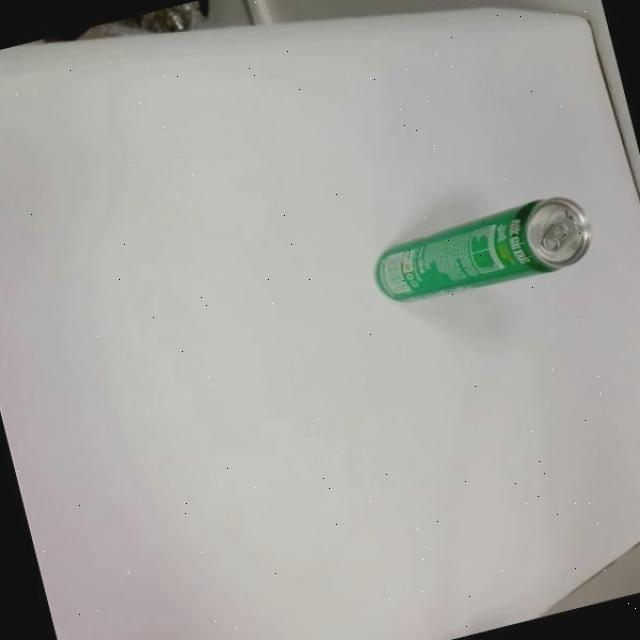debris: (363, 186, 600, 314)
